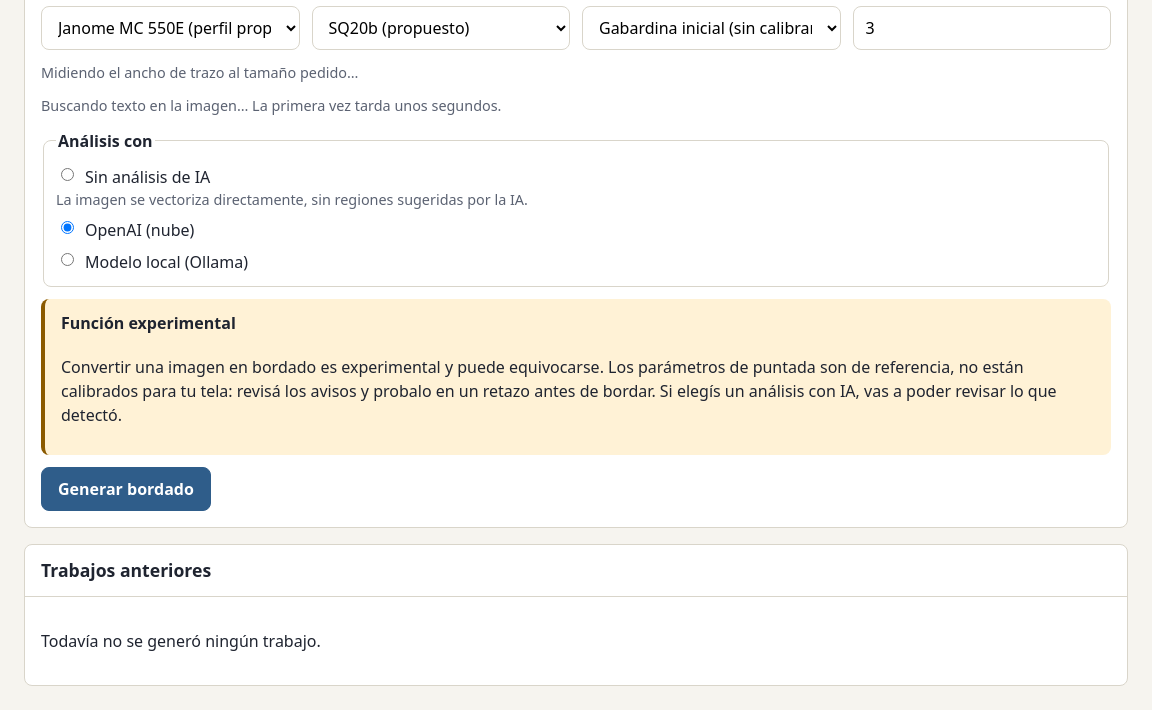
recorrido principal (cliente SIMULADO) › cancelar solo solicita: se ve "cancelación solicitada" hasta que el servidor publica cancelled
Earlier steps of the test are not shown.
Later steps or results of the test are not shown.
(page scrolled)
What coordinates should you click on to do the following:
click the button "Generar bordado"
I would click on:
 (126, 490)
Its box is [41,468,211,512].
Wait 1200 ms
(page scrolled)
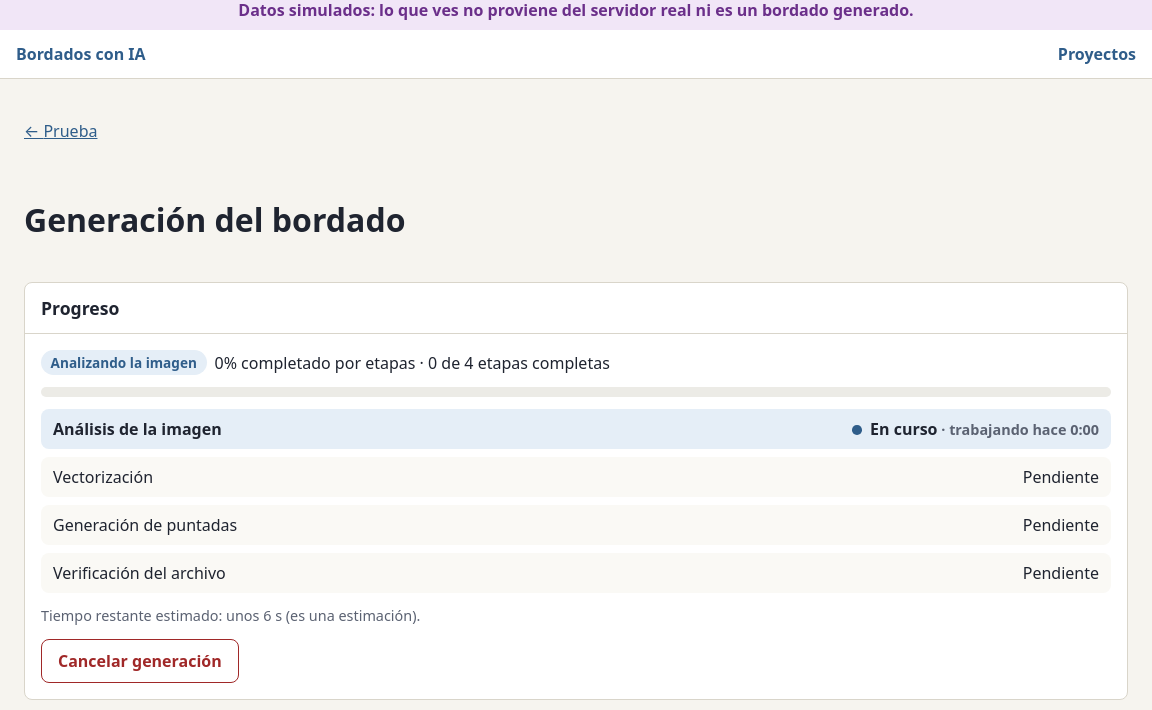
Result: the heading "Generación del bordado" is shown at [24,198,406,241]
What coordinates should you click on to do the following:
click the button "Cancelar generación"
I would click on:
 (140, 661)
Its box is [41,639,239,683].
Wait 10000 ms
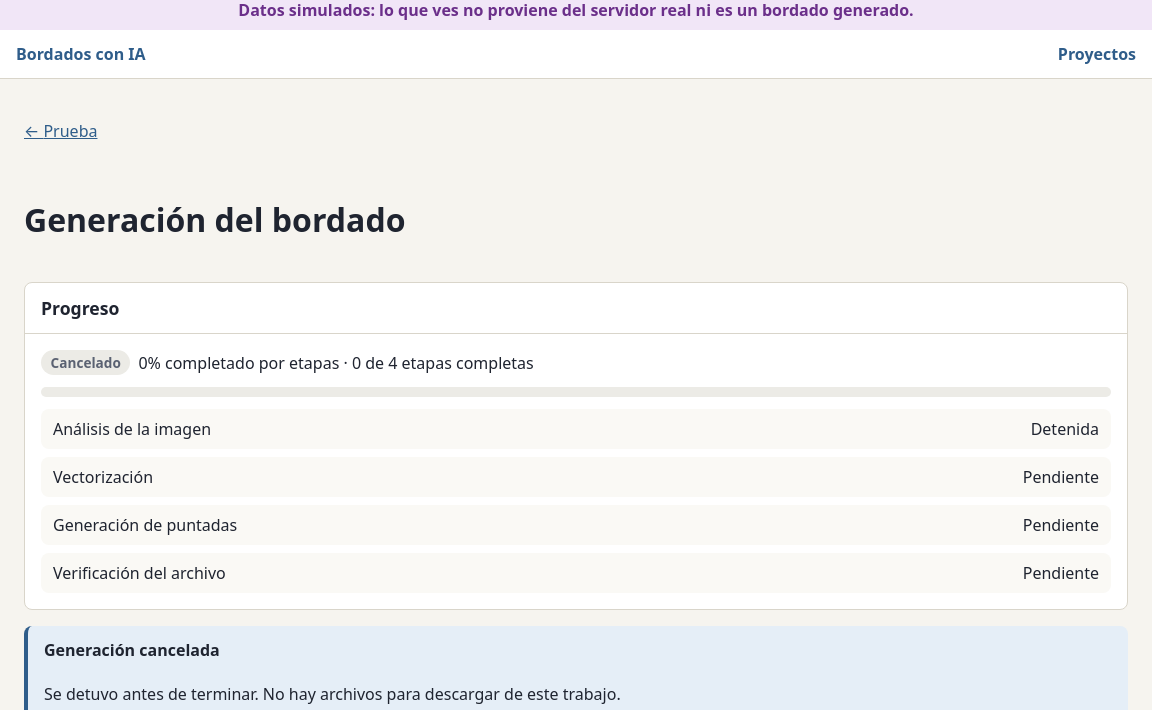
Result: the button "Cancelar generación" is gone
Result: the text "Generación cancelada" is shown at [44,639,220,661]
